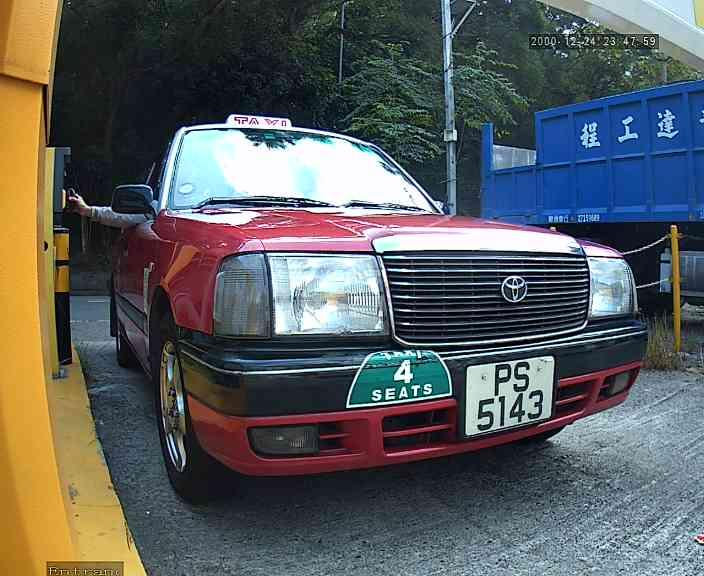Car: (67, 1, 654, 530)
License Plate: (453, 355, 560, 435)
